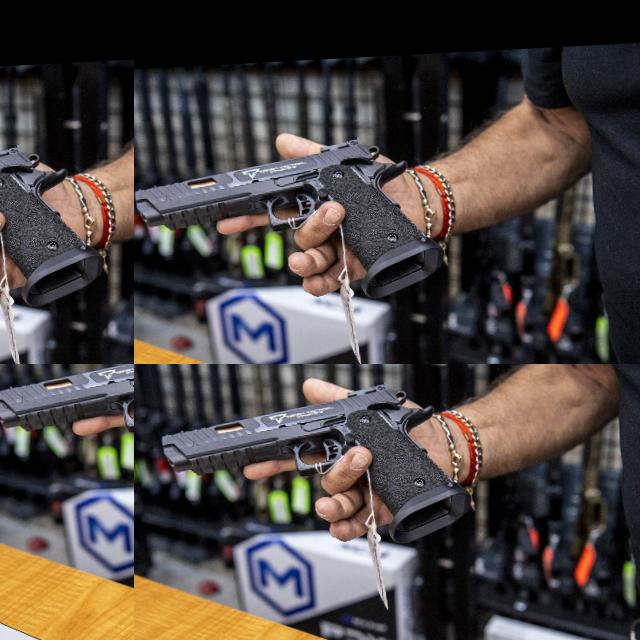handgun: (156, 377, 473, 560), (0, 213, 134, 364), (134, 72, 177, 127)
